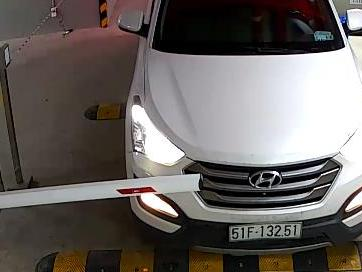car: (229, 222, 303, 240)
